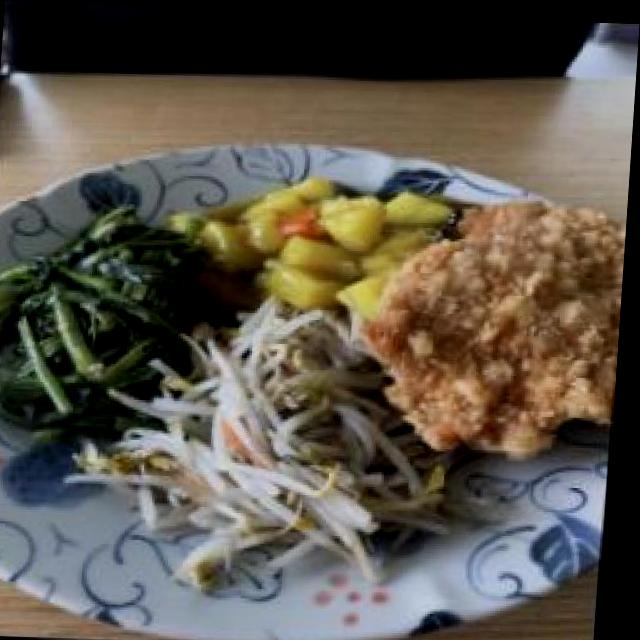curry: (205, 190, 403, 293)
fried_chicken: (403, 213, 629, 428)
mung_bean_sprouts: (152, 324, 411, 543)
water_spinach: (4, 226, 186, 403)
